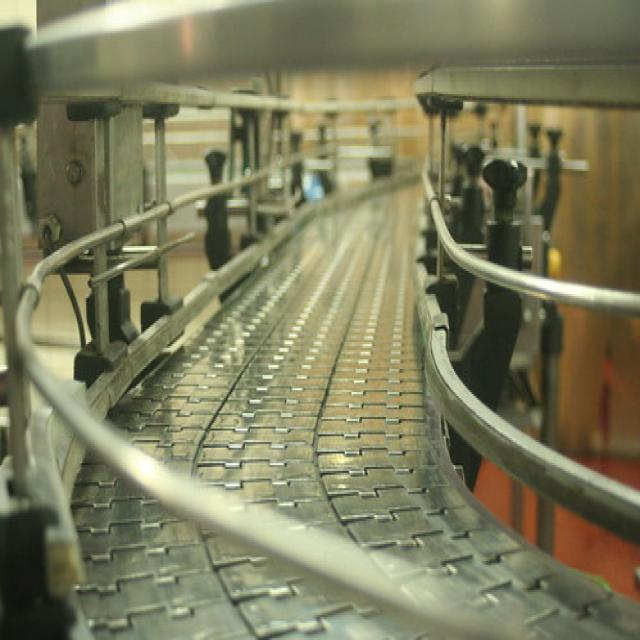conveyor: (20, 136, 640, 640)
